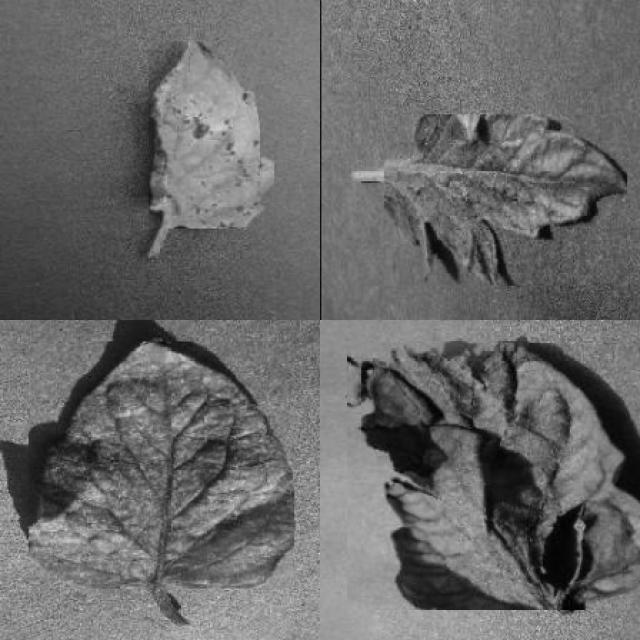Late Blight: (347, 343, 640, 610)
Mosaic Virus: (385, 114, 628, 286)
Septoria: (149, 42, 274, 228)
Spider Mites: (28, 342, 295, 588)
